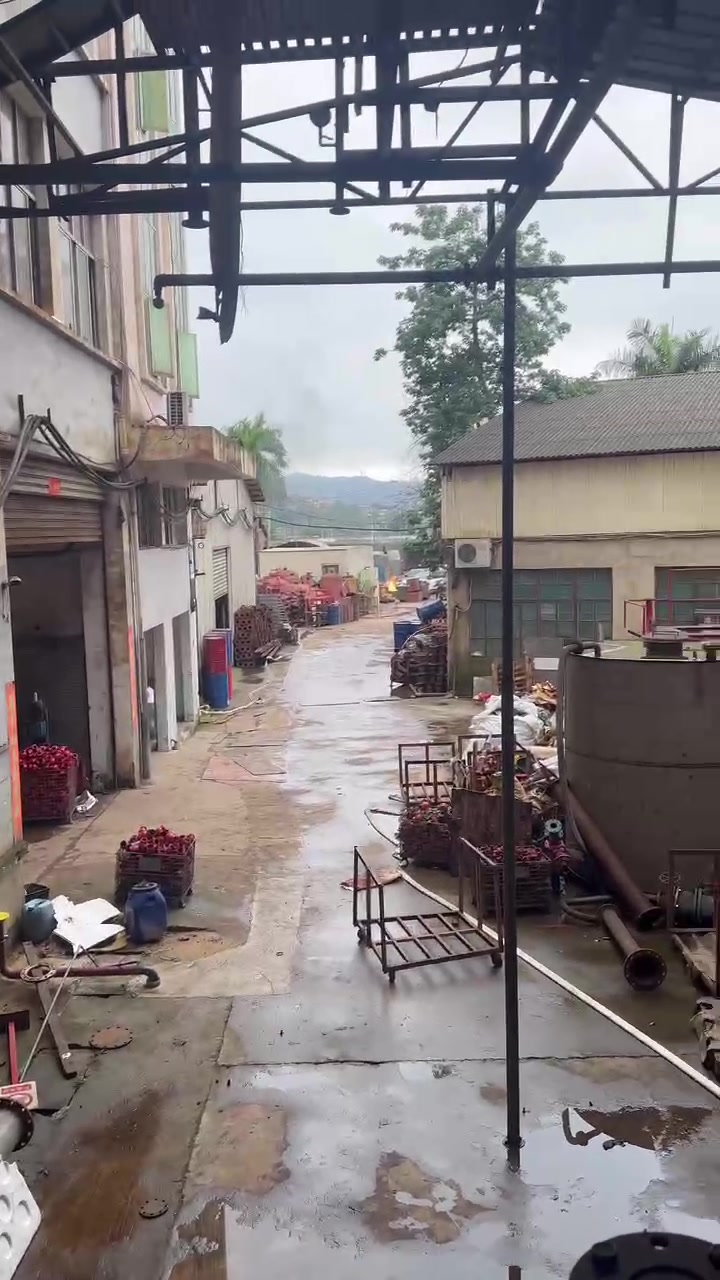fire: (387, 577, 398, 591)
